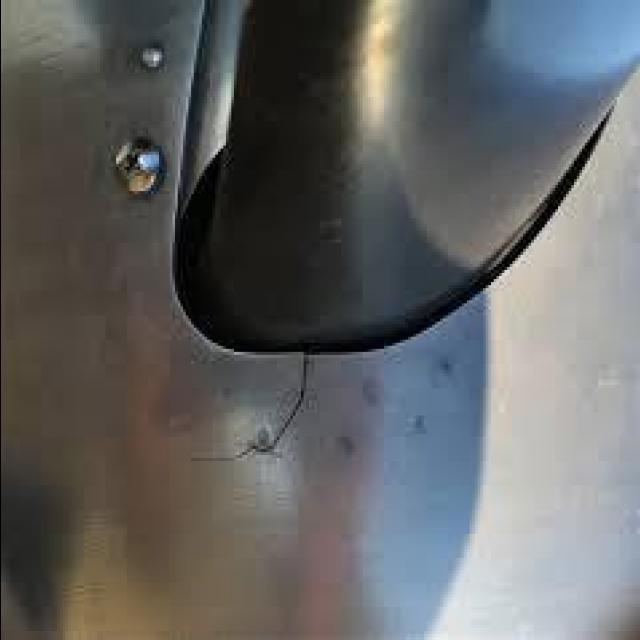Crack: (183, 349, 313, 467)
